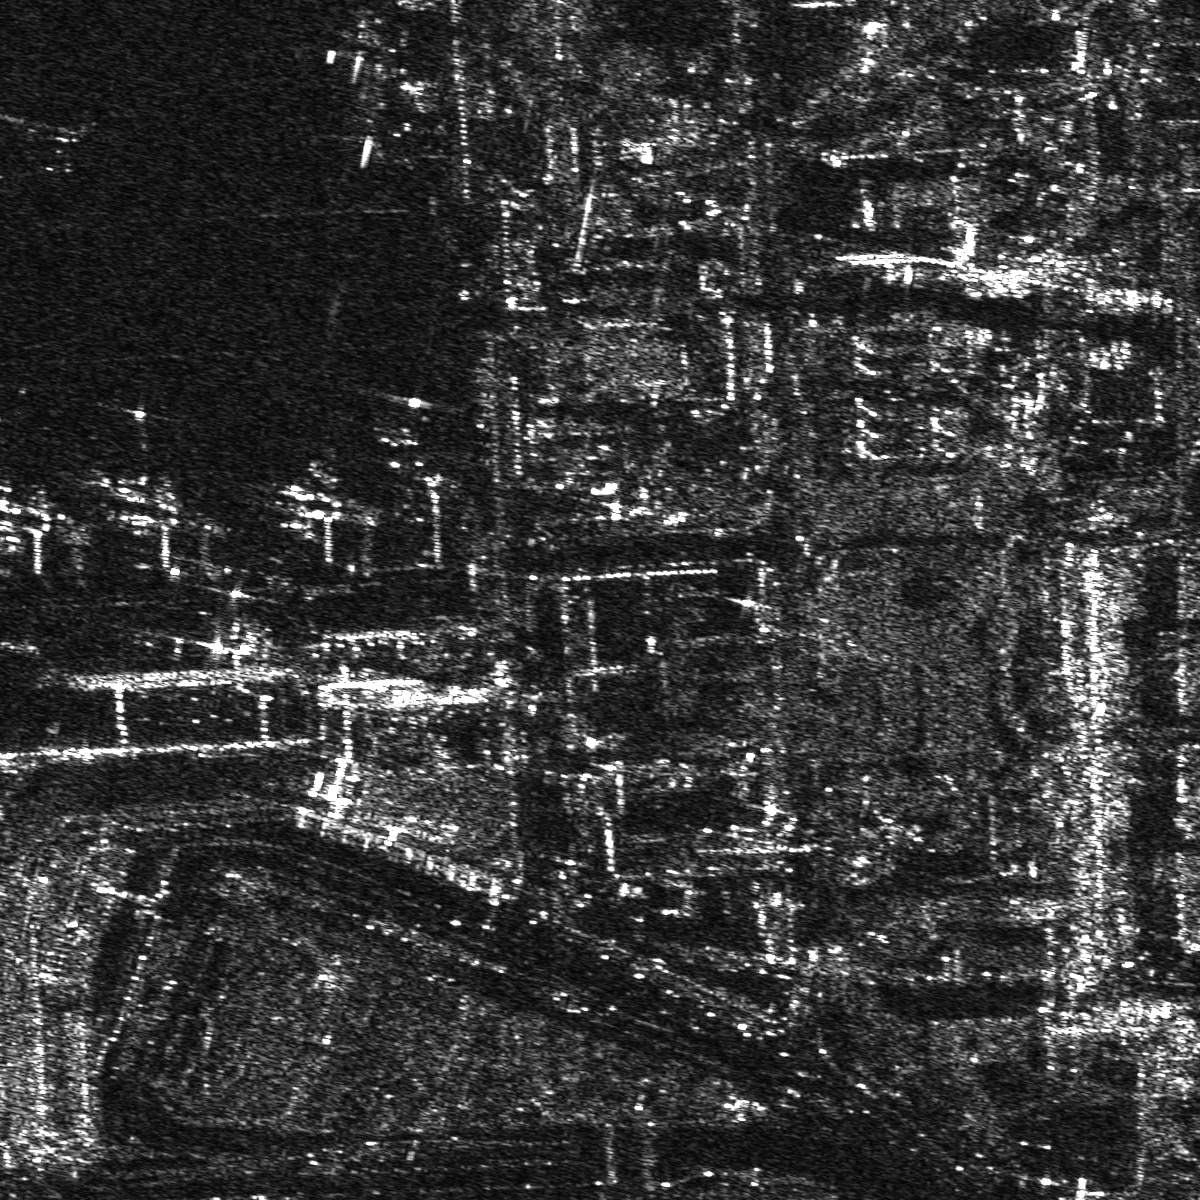A220: (365, 389, 456, 485), (27, 115, 93, 176)
